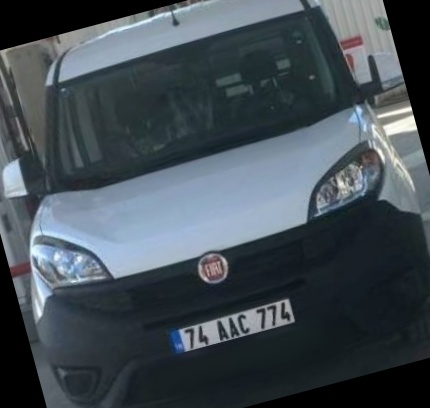plaka: (184, 302, 292, 354)
